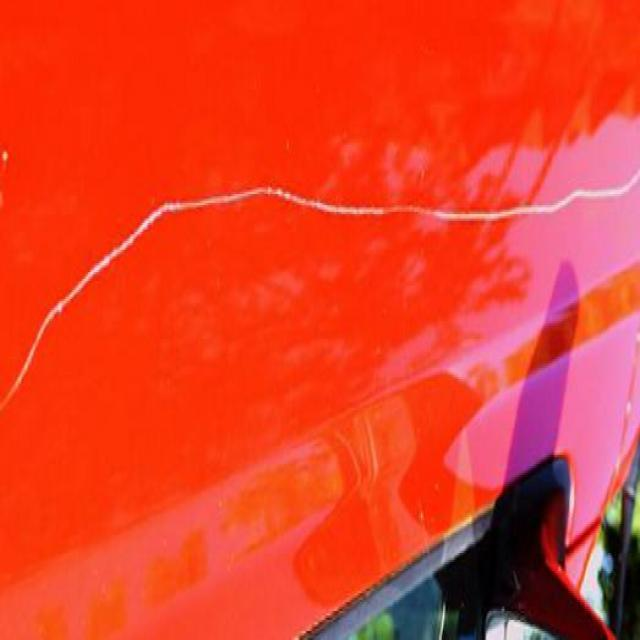scratch: (6, 176, 640, 413)
